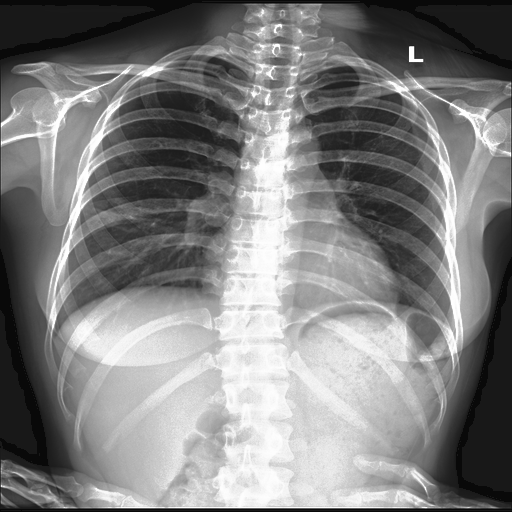Pleural thickening: (93, 208, 146, 229)
Pneumothorax: (89, 206, 159, 234)
